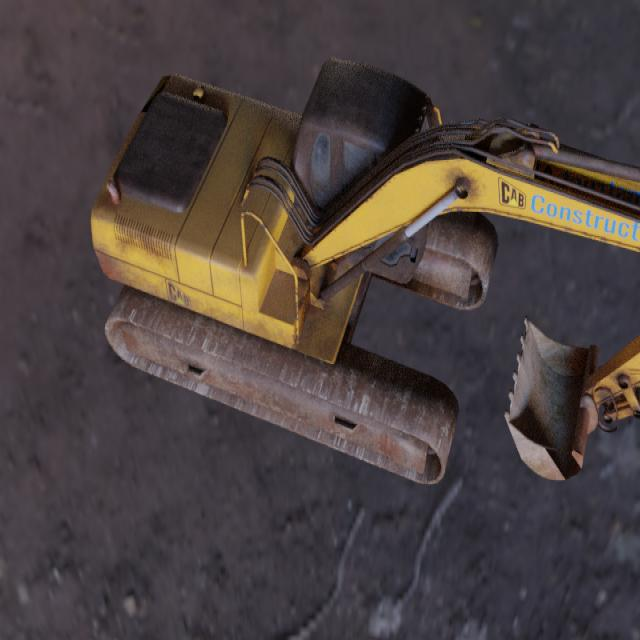excavator: (90, 56, 640, 484)
